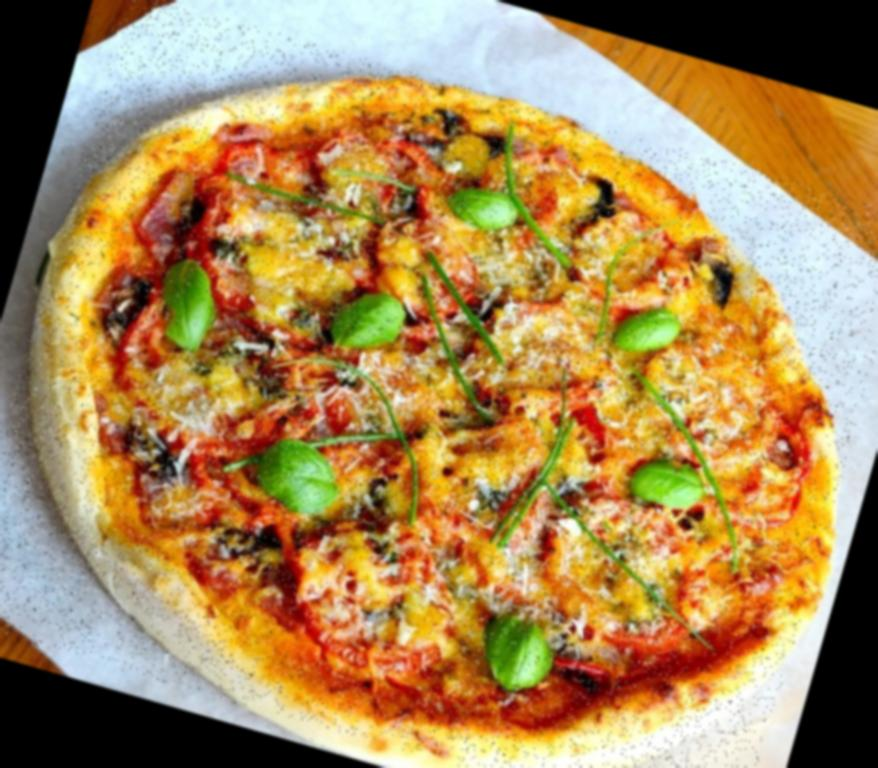Basil: (245, 424, 348, 514), (481, 596, 564, 692), (148, 260, 225, 360), (601, 285, 685, 372), (330, 281, 408, 362), (626, 454, 712, 522), (442, 173, 521, 241)
Pizza: (0, 0, 878, 768)
Tomatoes: (270, 502, 477, 694), (515, 490, 735, 670), (172, 183, 332, 332), (362, 204, 499, 332), (302, 126, 419, 222)
